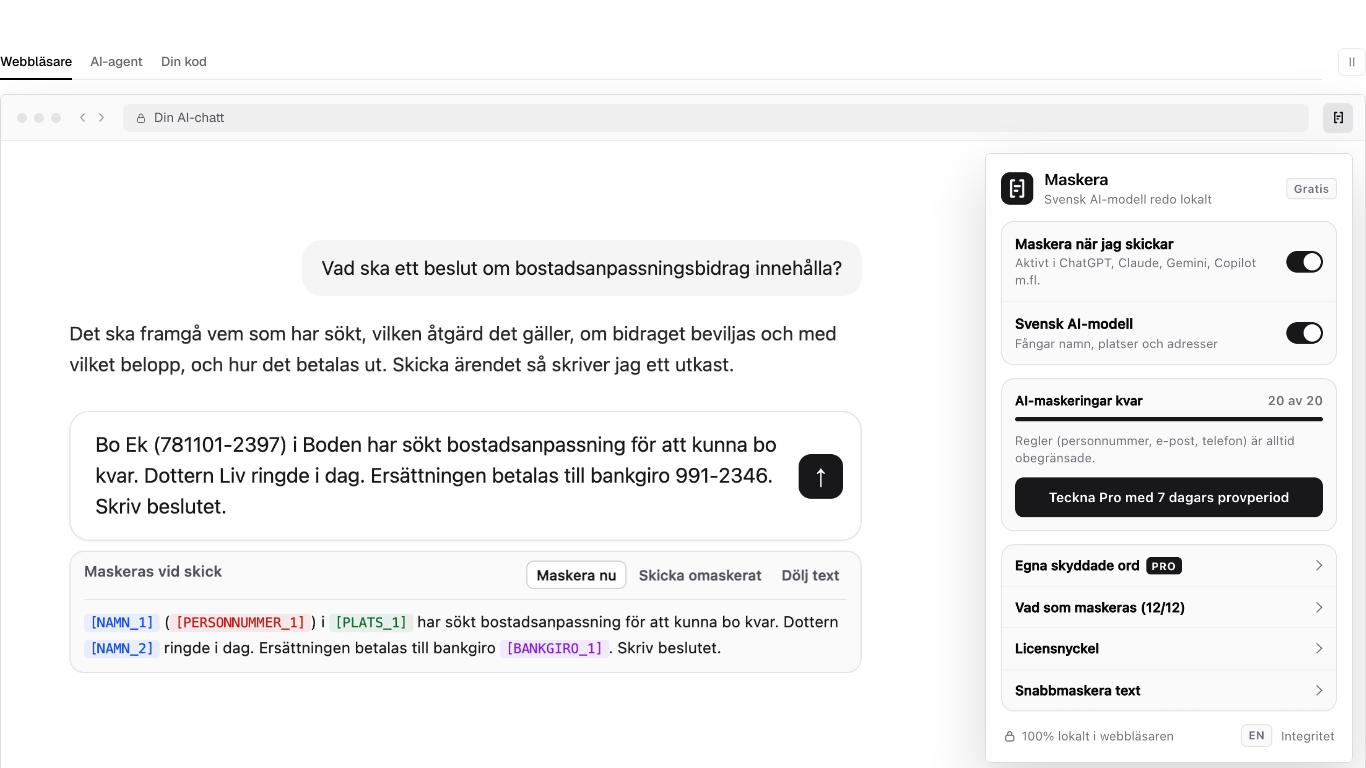
HeroStage rotation › stops for good when the visitor picks a scene
Click the button "Din kod" at (184, 62), box x1=161 y1=44 x2=207 y2=80
Wait 21000 ms
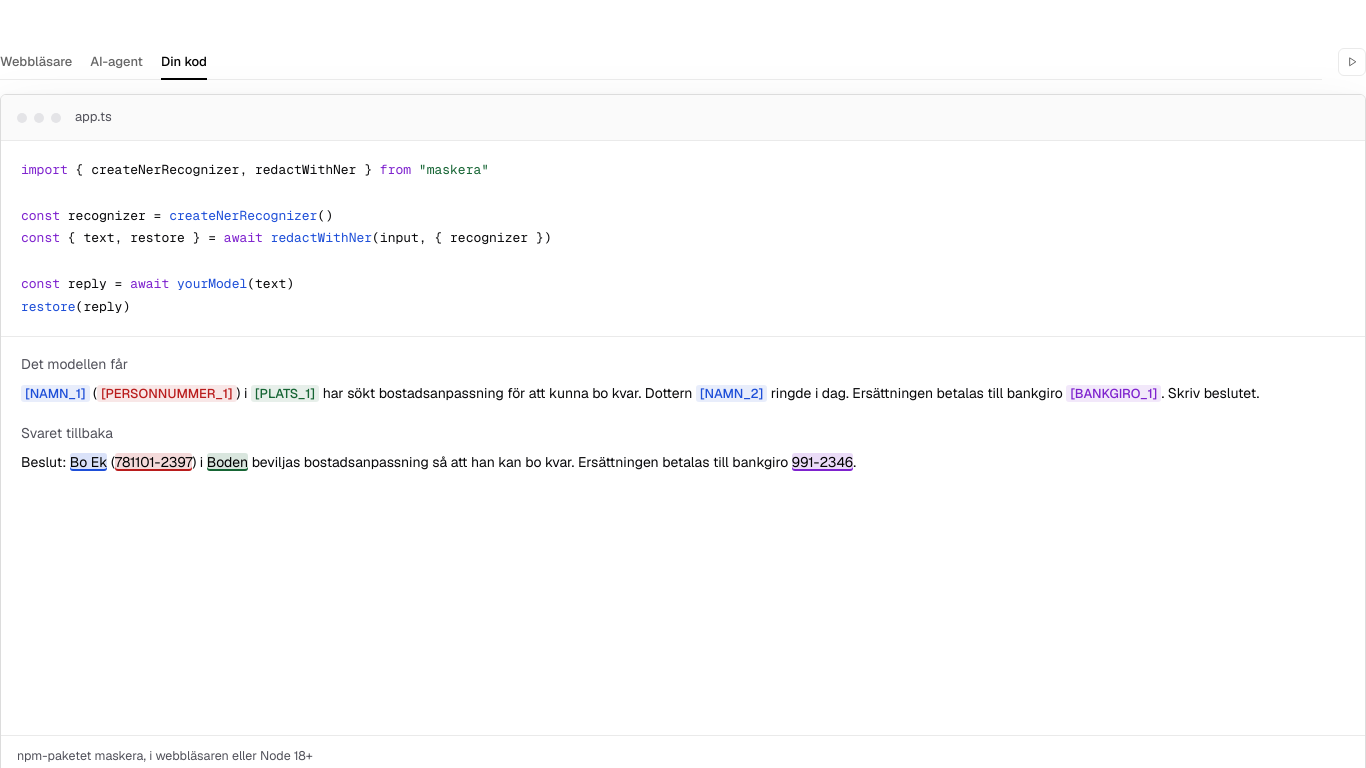
Expected: the button named "Spela bildspelet" is shown, x1=1338 y1=48 x2=1365 y2=76
